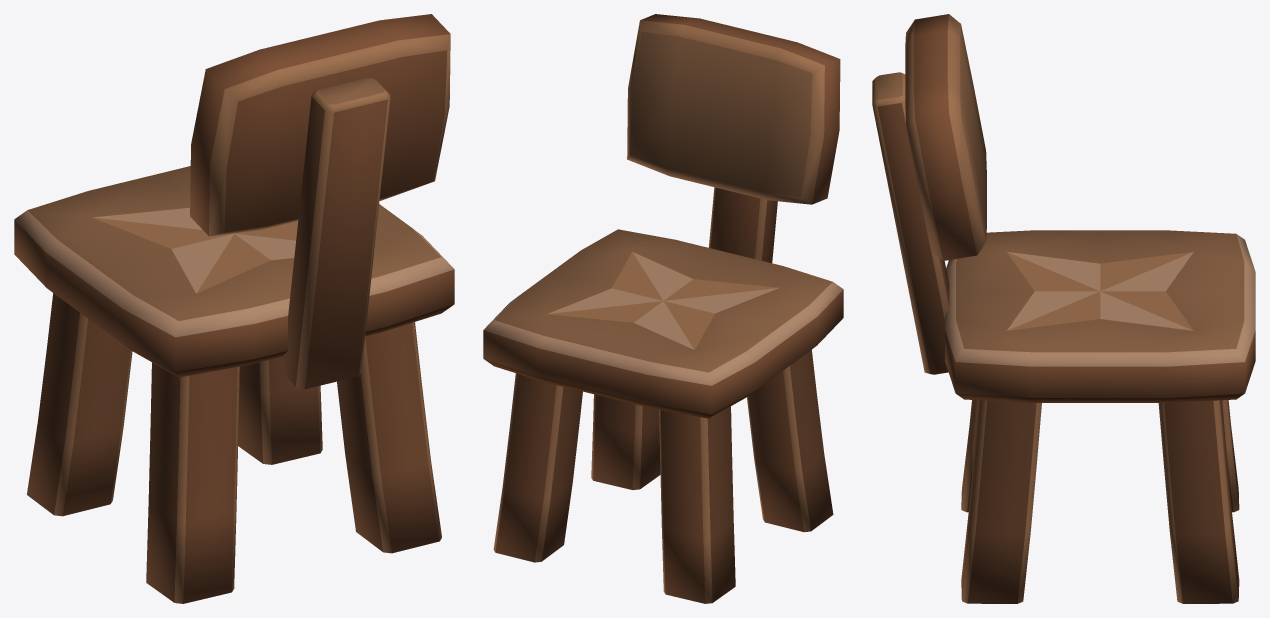
Rendered from seat.fbx.
3 views of the same model, side by side, from view 1: azimuth 30°, elevation 25°; view 2: azimuth 150°, elevation 25°; view 3: azimuth 270°, elevation 25° (orthographic). The views are drawn at different scales.
Parts seen in each view (by area): view 1: seat; view 2: seat; view 3: seat.
Part boxes in pixels (x1,y1,x2,y2): seat: (14, 14, 454, 603); seat: (483, 14, 843, 603); seat: (872, 14, 1255, 603).
Size of the model in its own units: 50 by 86.64 by 61.69.
